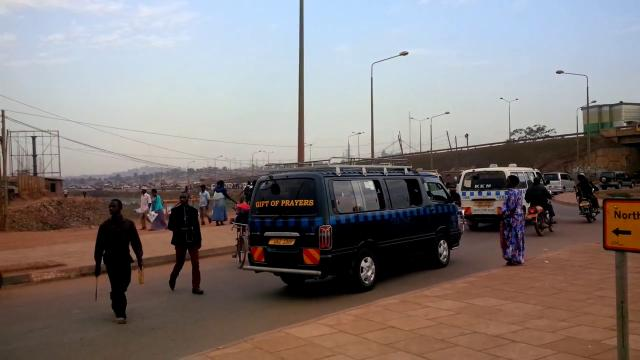car: (599, 168, 636, 190)
motorcycle: (524, 185, 558, 235), (576, 189, 600, 223)
van: (238, 161, 464, 292), (453, 164, 543, 231), (542, 172, 575, 194)
